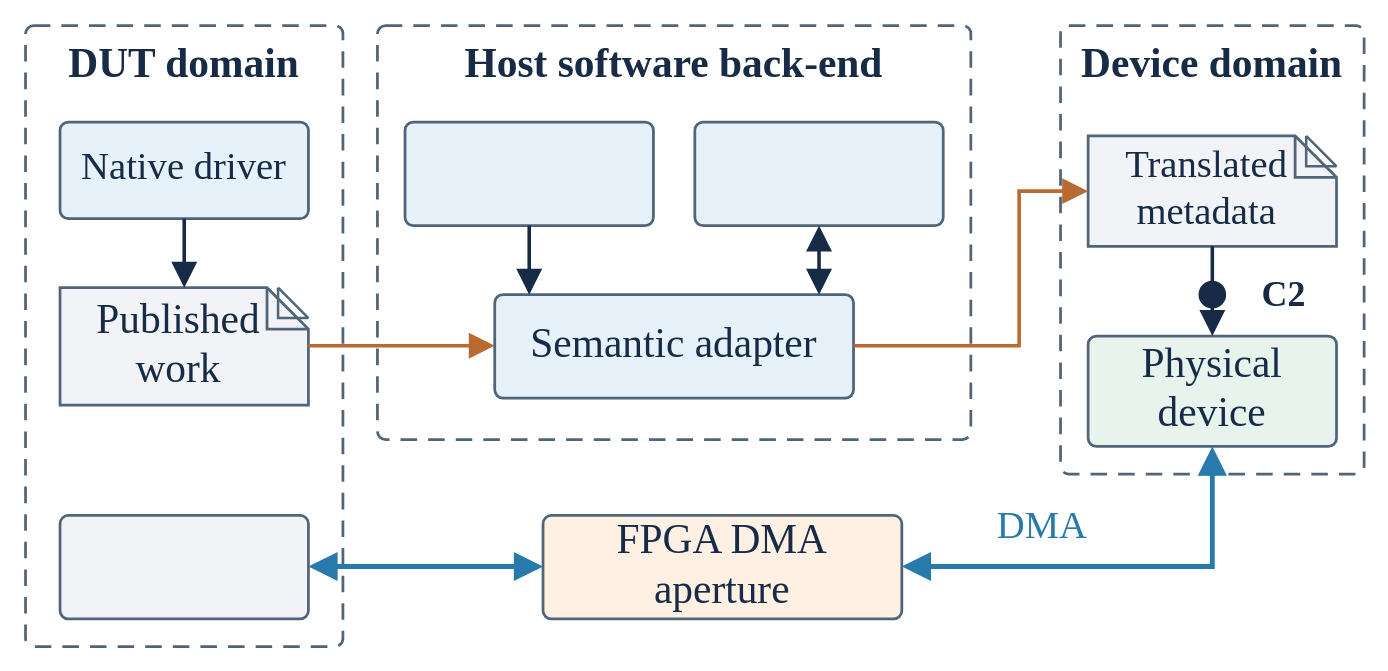
This 1388x671 diagram has some shape labels left out. The shapes that lost their labels are listed below. From the top down, each one's centre as x and y in pixels, then its label:
pixel 528 173: Endpoint state
pixel 818 173: Address translator
pixel 183 566: Payload memory
